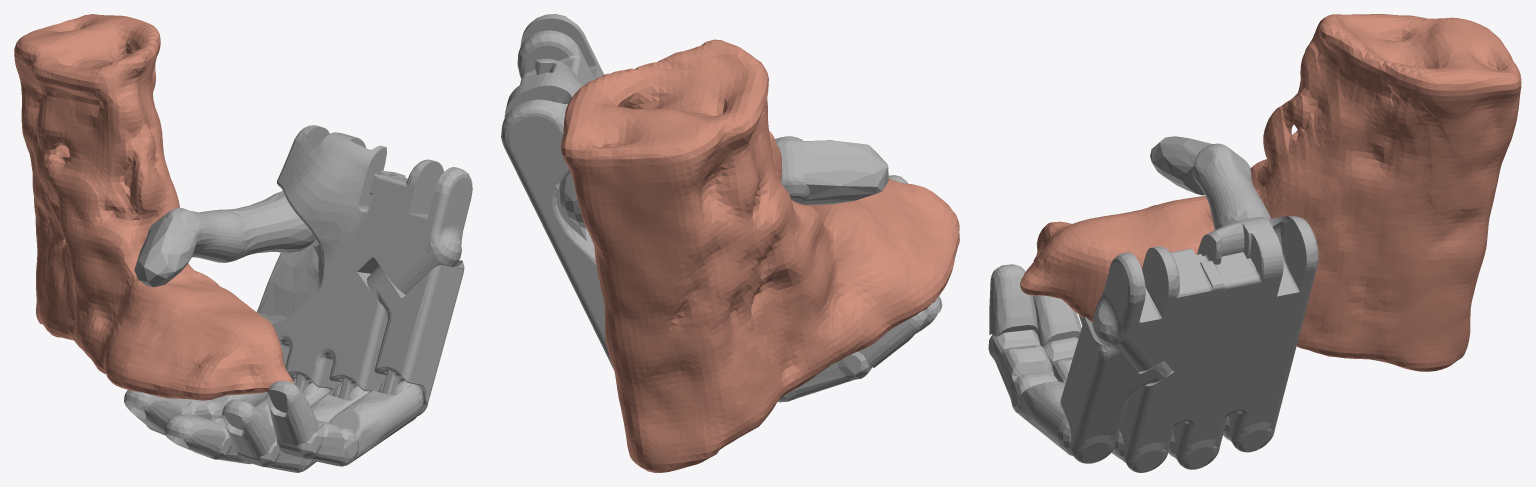
3 renders of one model, left to right at view 1: azimuth 30°, elevation 25°; view 2: azimuth 150°, elevation 25°; view 3: azimuth 270°, elevation 25°, orthographic. The views are drawn at different scales.
Parts seen in each view (by area): view 1: world; view 2: world; view 3: world.
Part boxes in pixels (bbox=[...]): world: bbox=[14, 14, 472, 472]; world: bbox=[501, 14, 959, 472]; world: bbox=[988, 14, 1521, 472].
Size of the model in its own units: 1.09 by 1.04 by 1.33.
